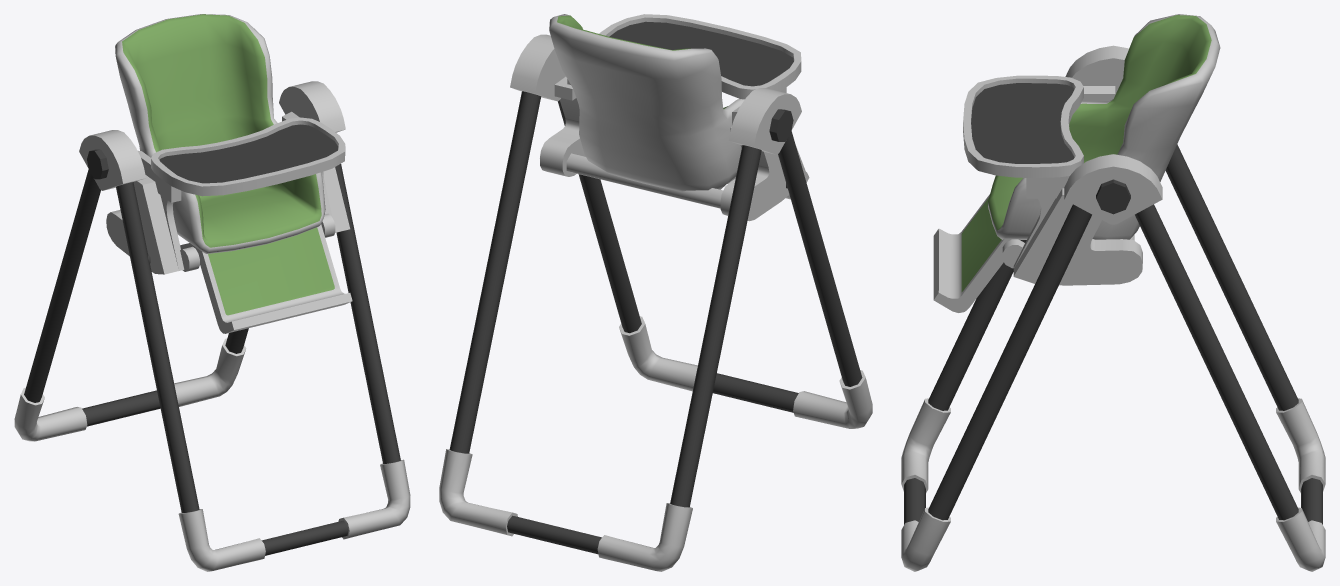
File: HighChair_01.fbx
3 views of the same model, side by side, from view 1: azimuth 30°, elevation 25°; view 2: azimuth 150°, elevation 25°; view 3: azimuth 270°, elevation 25° (orthographic). The views are drawn at different scales.
Parts seen in each view (by area): view 1: HighChair_01; view 2: HighChair_01; view 3: HighChair_01.
Part boxes in pixels (x1,y1,x2,y2): HighChair_01: (14,14,410,571); HighChair_01: (439,14,872,571); HighChair_01: (901,14,1325,571).
Size of the model in its own units: 0.4879 by 0.8563 by 0.6844.
